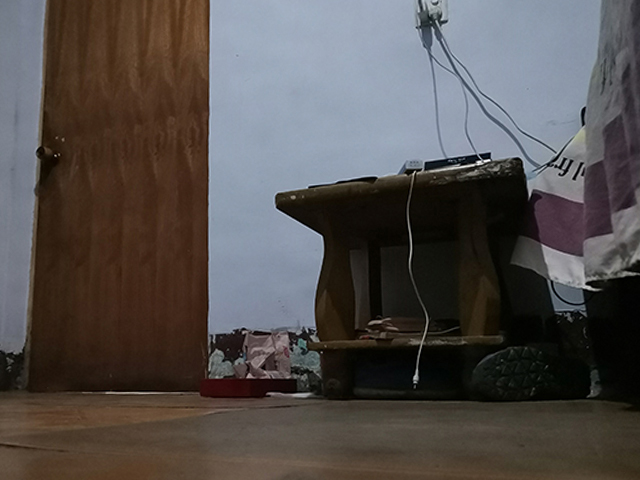table: (273, 155, 535, 403)
